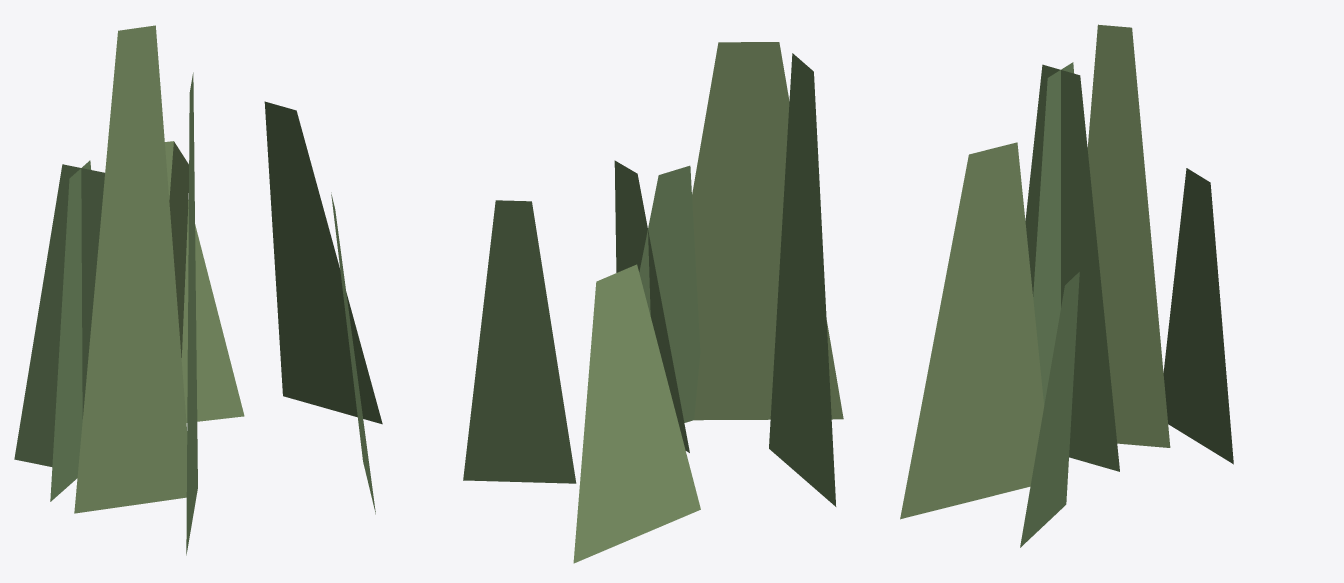
File: cao.yangmao@subadult__summer.glb
The picture shows the model from 3 angles, left to right: view 1: azimuth 30°, elevation 25°; view 2: azimuth 150°, elevation 25°; view 3: azimuth 270°, elevation 25°; orthographic projection. The views are drawn at different scales.
Visible parts, largest first — view 1: cao.yangmao@subadult__summer; view 2: cao.yangmao@subadult__summer; view 3: cao.yangmao@subadult__summer.
Boxes of the visible parts, box(x1,y1,x2,y2) form: cao.yangmao@subadult__summer: box(14, 25, 382, 555); cao.yangmao@subadult__summer: box(463, 42, 843, 563); cao.yangmao@subadult__summer: box(900, 24, 1233, 547).
Bounding box in the file's own units: 0.2395 × 0.3124 × 0.2887.
